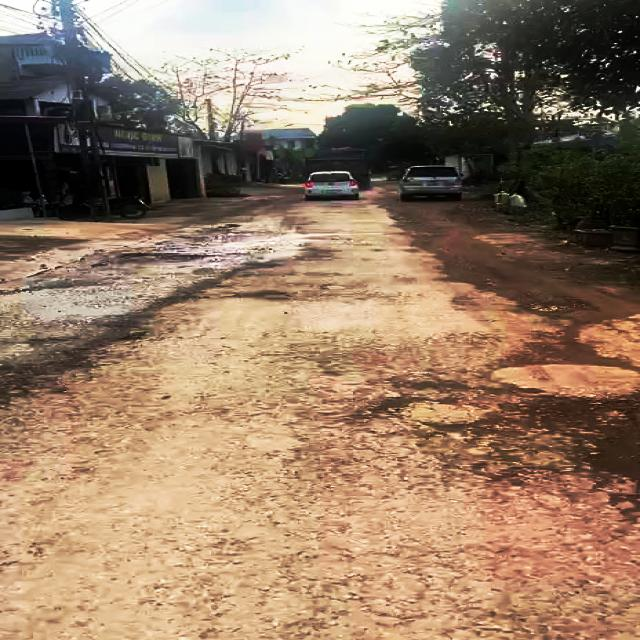pothole: (560, 421, 640, 485), (374, 391, 429, 419)
